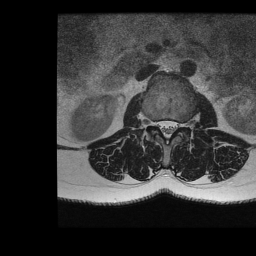CCS_normal: (164, 114, 170, 149)
LFS_stenosis: (177, 116, 185, 133)
LLS_normal: (170, 113, 177, 139)
RFS_stenosis: (150, 112, 156, 134)
RLS_normal: (157, 115, 164, 139)
